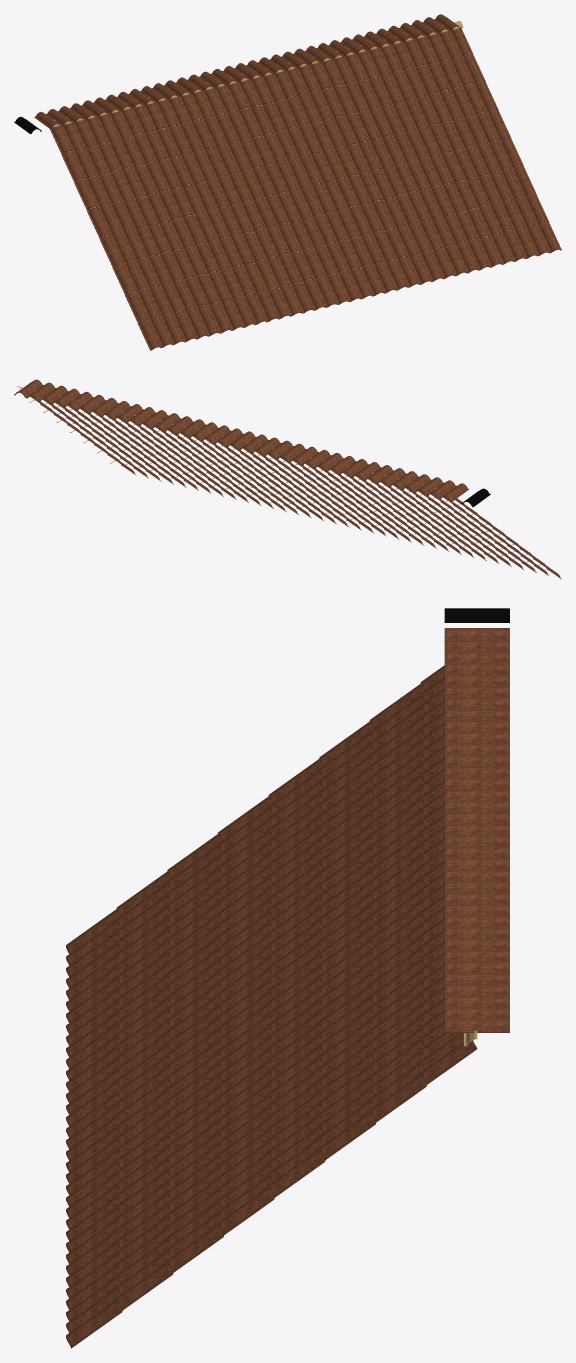
The model's file is Project Name.gltf.
The picture shows the model from 3 angles, top to bottom: view 1: azimuth 30°, elevation 25°; view 2: azimuth 150°, elevation 25°; view 3: azimuth 270°, elevation 25°; orthographic projection. The views are drawn at different scales.
Parts seen in each view (by area): view 1: ROOF ROOF_T, ORIGINALES TEJAS_HILERA, ROOF; view 2: ROOF ROOF_T, ORIGINALES TEJAS_HILERA; view 3: ROOF ROOF_T, ORIGINALES TEJAS_HILERA, ORIGINALES TEJA.
Part boxes in pixels (x1=…): ROOF ROOF_T: x1=50, y1=28, x2=561, y2=350; ORIGINALES TEJAS_HILERA: x1=34, y1=14, x2=461, y2=129; ROOF: x1=53, y1=21, x2=463, y2=127; ROOF ROOF_T: x1=16, y1=390, x2=561, y2=579; ORIGINALES TEJAS_HILERA: x1=14, y1=379, x2=468, y2=501; ROOF ROOF_T: x1=66, y1=665, x2=477, y2=1348; ORIGINALES TEJAS_HILERA: x1=444, y1=628, x2=509, y2=1032; ORIGINALES TEJA: x1=444, y1=608, x2=509, y2=622.
Bounding box in the file's own units: 0.0619 × 0.0214 × 0.0271.
Materials: 5 (3 with a texture image).
